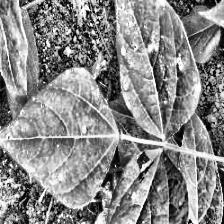Bean Rust: (0, 68, 111, 208), (116, 0, 199, 137), (102, 149, 191, 224), (174, 111, 224, 224)
